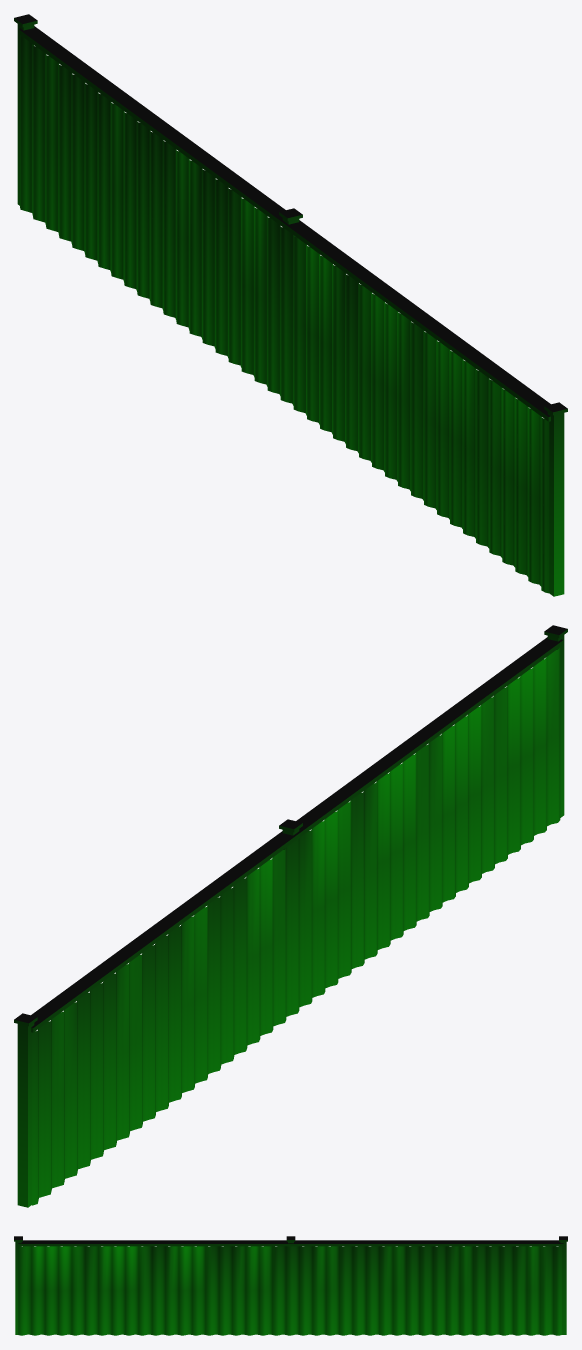
File: woodenfencediag.glb
3 views of the same model, one above another, from view 1: azimuth 30°, elevation 25°; view 2: azimuth 150°, elevation 25°; view 3: azimuth 270°, elevation 25° (orthographic). The views are drawn at different scales.
Visible parts, largest first — view 1: lod0; view 2: lod0; view 3: lod0.
Part boxes in pixels (box(x1,y1,x2,y2)): lod0: box(14, 14, 567, 596); lod0: box(14, 625, 567, 1207); lod0: box(14, 1236, 567, 1335).
Size of what is drawn, in the model's own units: 0.23 by 2.36 by 12.4.
